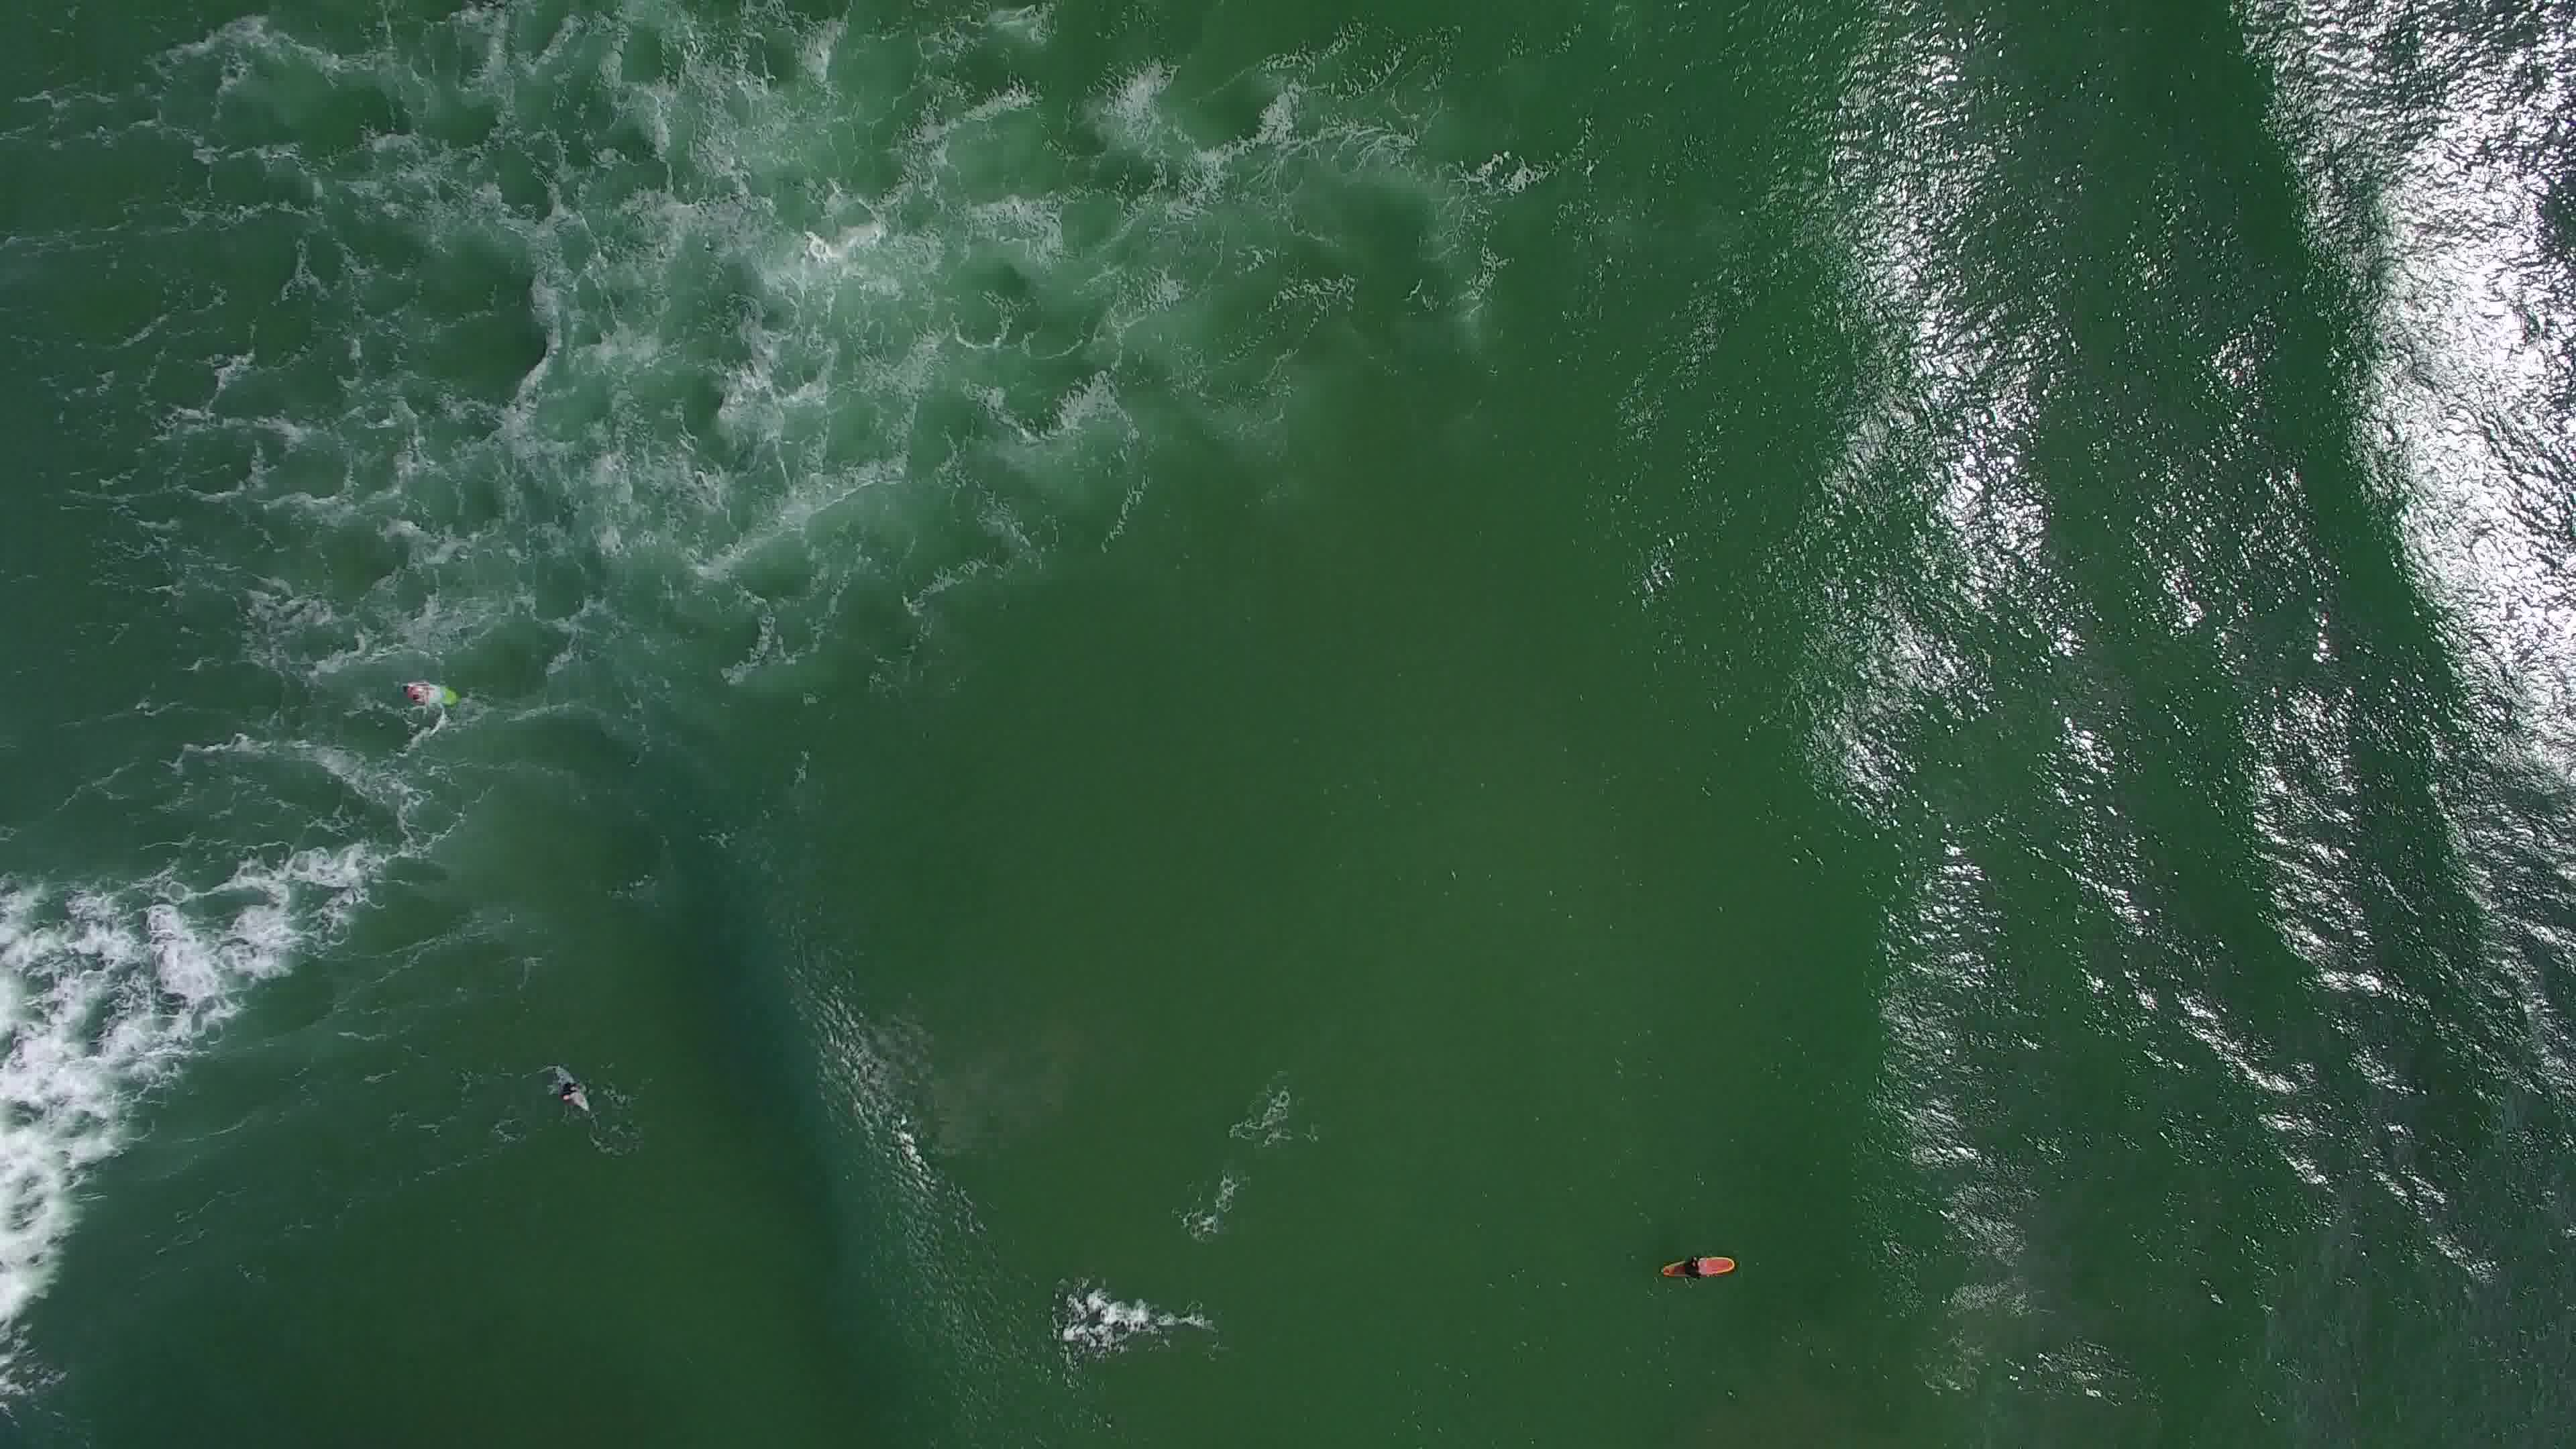surfer: (1658, 1246, 1743, 1290), (541, 1058, 600, 1122), (391, 676, 472, 713)
